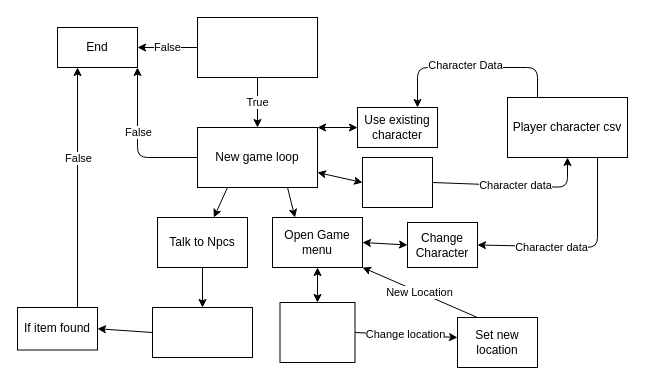
Image size: 645x385. Some labels were removed from this diagram. Each missing label, with the centre of its shape:
"Create new character" belongs at point (397, 182).
"Display character dialogue" belongs at point (202, 332).
"Display Map" belongs at point (317, 332).
"Main Menu loop" belongs at point (257, 47).
